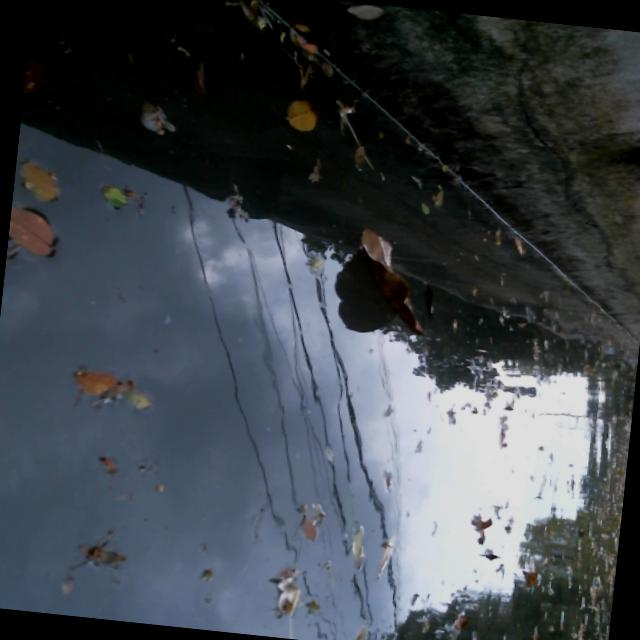Big-leaf: (346, 223, 437, 339)
Small-leaf: (208, 0, 337, 82), (5, 202, 61, 264), (11, 150, 66, 206), (267, 562, 306, 621), (71, 365, 123, 402), (131, 96, 171, 143), (75, 538, 131, 571), (280, 94, 325, 134), (21, 51, 53, 104), (343, 519, 373, 572), (373, 533, 400, 587), (188, 55, 218, 99), (466, 511, 499, 549), (91, 180, 132, 210), (119, 385, 156, 412), (92, 448, 121, 481), (294, 513, 322, 547), (508, 231, 531, 259), (317, 441, 339, 468), (429, 181, 449, 210), (482, 545, 505, 566), (413, 198, 434, 217), (350, 624, 374, 640)
